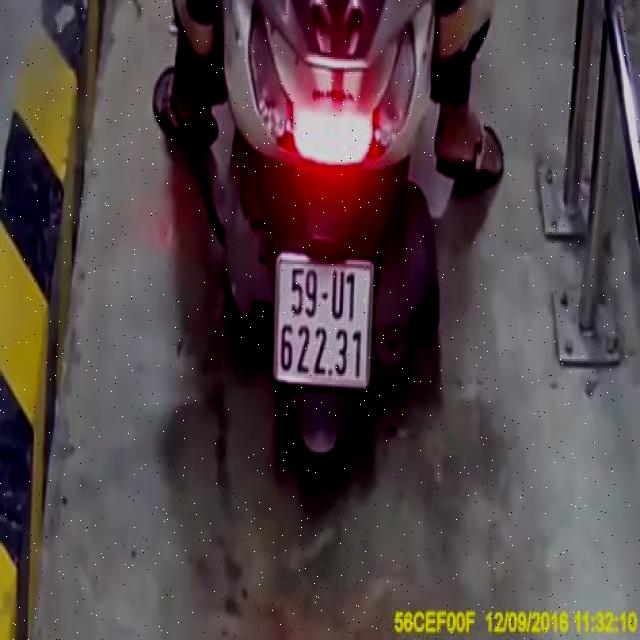1: (351, 328, 363, 380), (346, 271, 357, 323)
2: (297, 321, 312, 376), (312, 326, 327, 376)
3: (334, 328, 349, 378)
5: (290, 266, 304, 318)
6: (280, 323, 294, 374)
9: (304, 269, 318, 317)
U: (330, 264, 347, 322)
